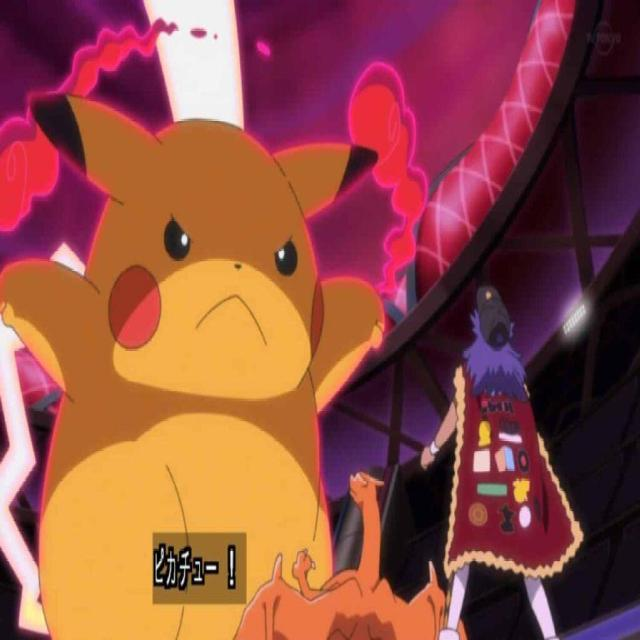pikachu: (0, 103, 384, 640)
